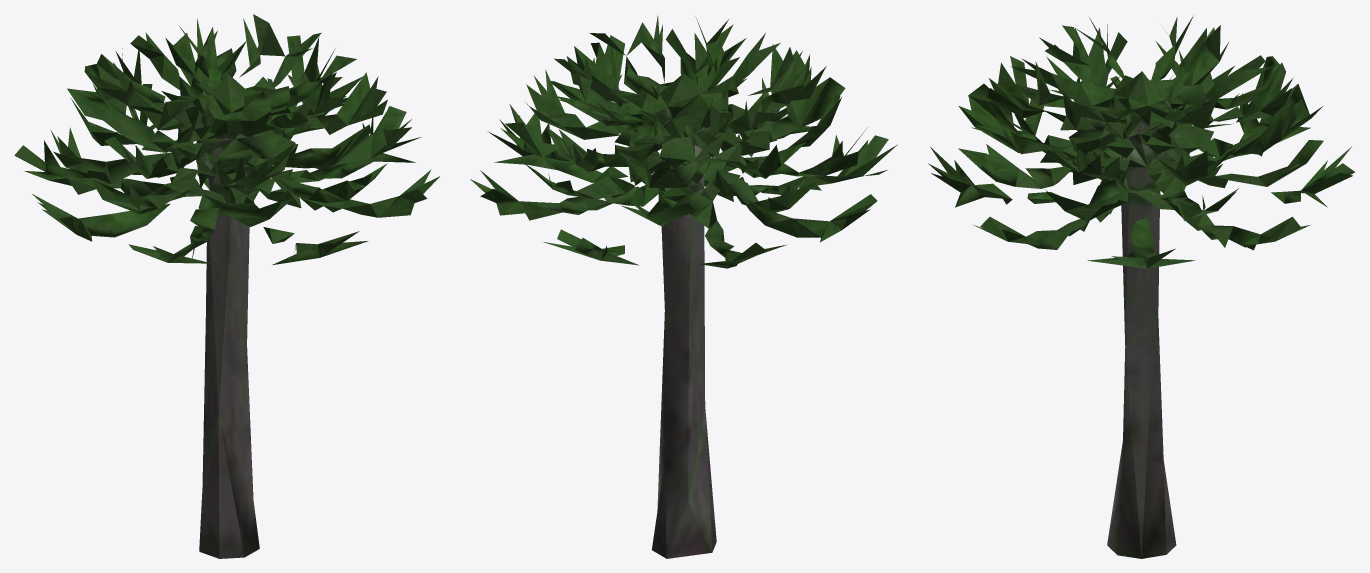
File: araucaria.glb
The picture shows the model from 3 angles, left to right: view 1: azimuth 30°, elevation 25°; view 2: azimuth 150°, elevation 25°; view 3: azimuth 270°, elevation 25°; orthographic projection.
Visible parts, largest first — view 1: output_unwrapped; view 2: output_unwrapped; view 3: output_unwrapped.
Part boxes in pixels (x1,y1,x2,y2): output_unwrapped: [14, 14, 439, 558]; output_unwrapped: [470, 15, 897, 558]; output_unwrapped: [928, 15, 1354, 558].
Bounding box in the file's own units: 1.51 × 1.89 × 1.5.
Materials: 1 (1 with a texture image).
